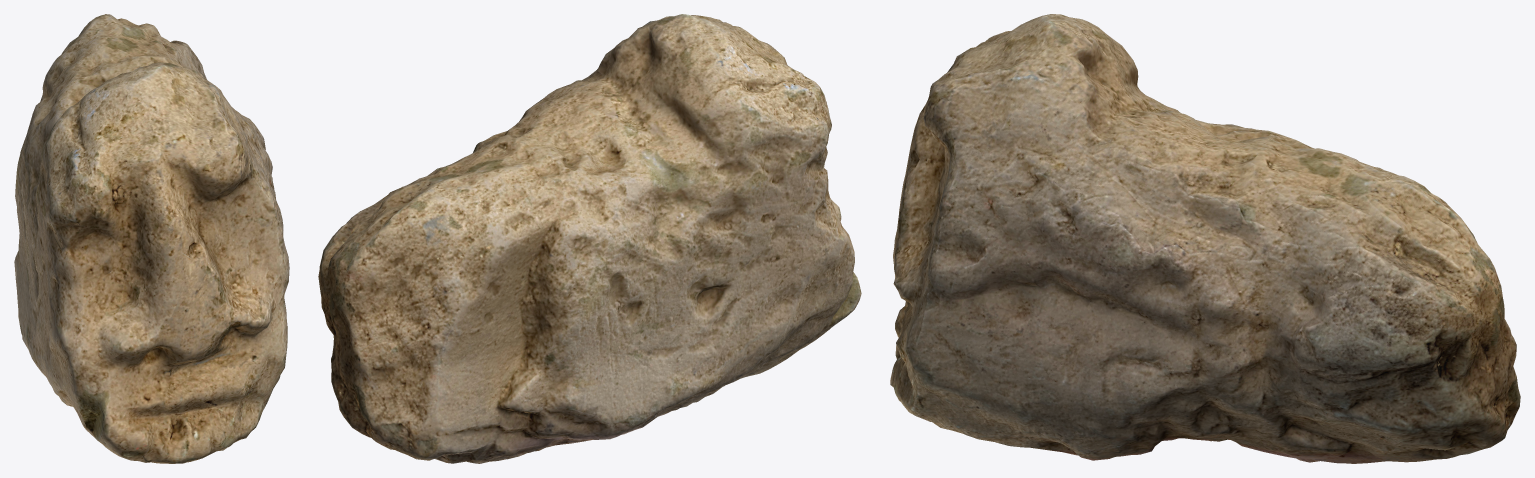
Rendered from cabeza-clava-chachapoyas.FBX.
The picture shows the model from 3 angles, left to right: view 1: azimuth 30°, elevation 25°; view 2: azimuth 150°, elevation 25°; view 3: azimuth 270°, elevation 25°; orthographic projection. The views are drawn at different scales.
Visible parts, largest first — view 1: default; view 2: default; view 3: default.
Boxes of the visible parts, x1,y1,x2,y2 form: default: (14, 14, 289, 463); default: (318, 14, 861, 463); default: (890, 14, 1520, 463).
Size of the model in its own units: 2.02 by 2.13 by 2.96.
